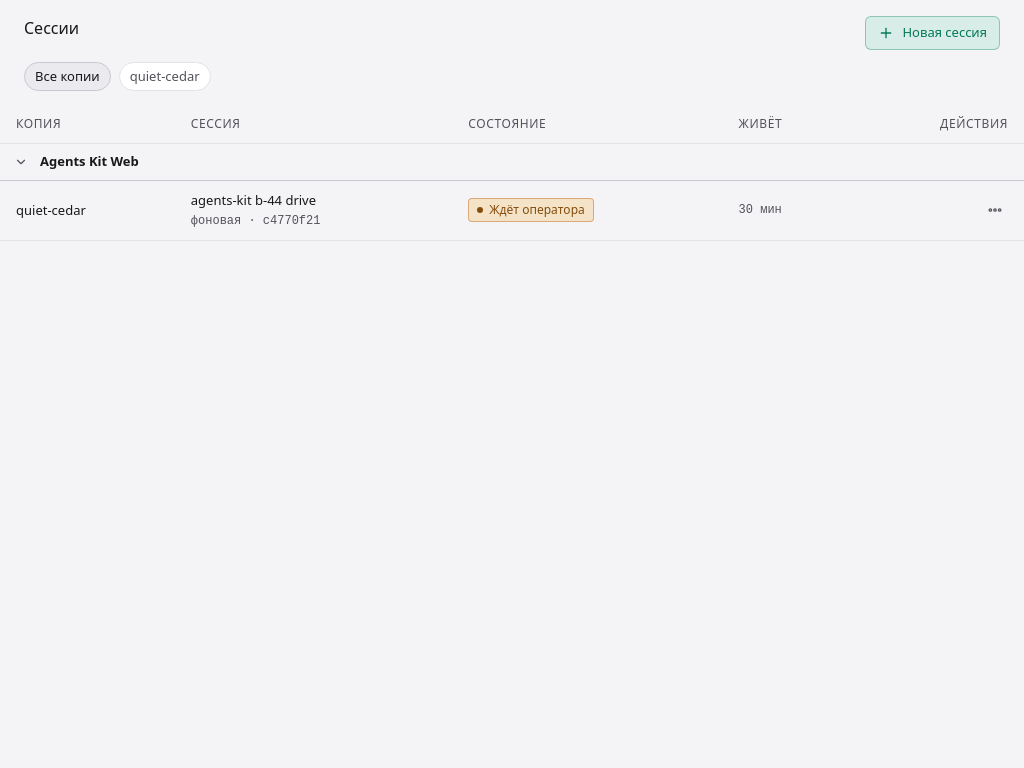
сессия копии, которая ждёт ответа, без дела не стоит и гаснет через вопрос
The width and height of the screenshot is (1024, 768).
Expected: the text "Ждёт оператора" is shown, [468,198,594,222]
Click the button named "Действия с сессией в quiet-cedar" at (995, 210), box [982,197,1008,223]
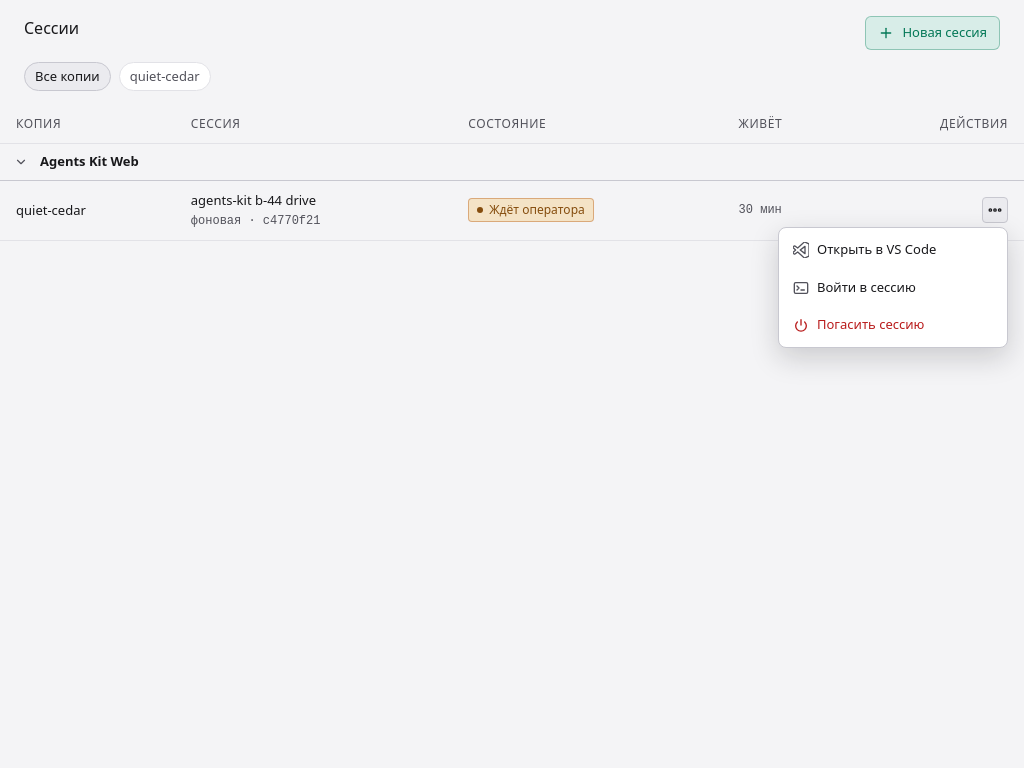
Click the menu item "Погасить сессию" at (893, 325), box [783,307,1003,343]
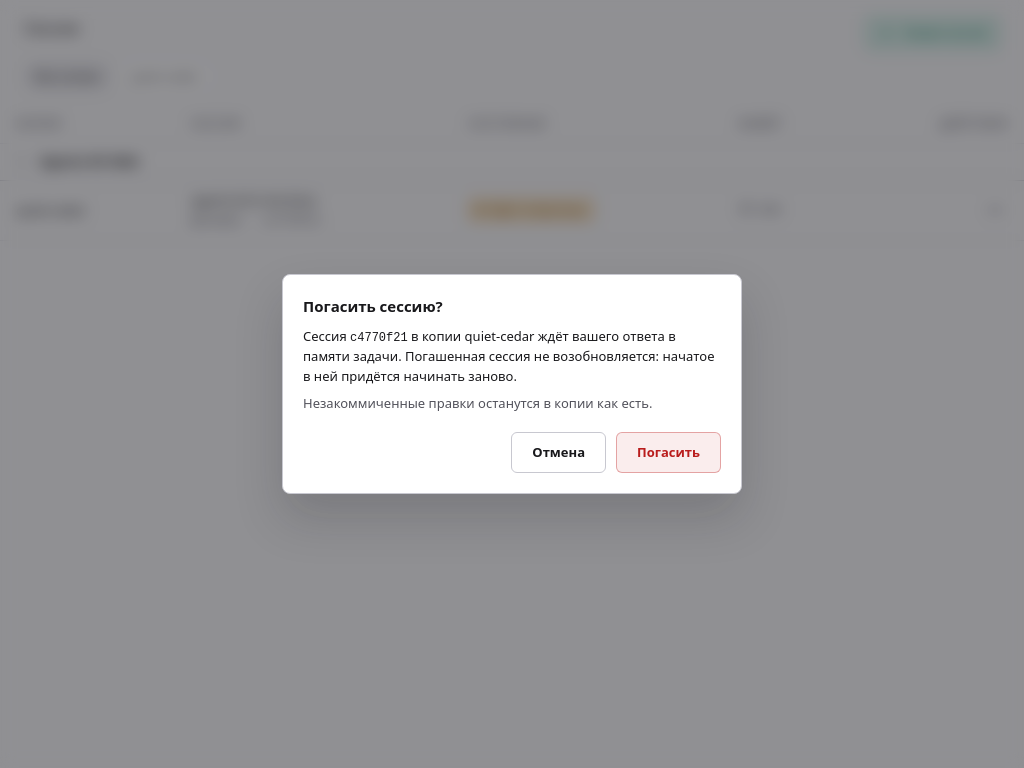
Now the text "ждёт вашего ответа в памяти задачи" is shown, box [303,327,676,365]
